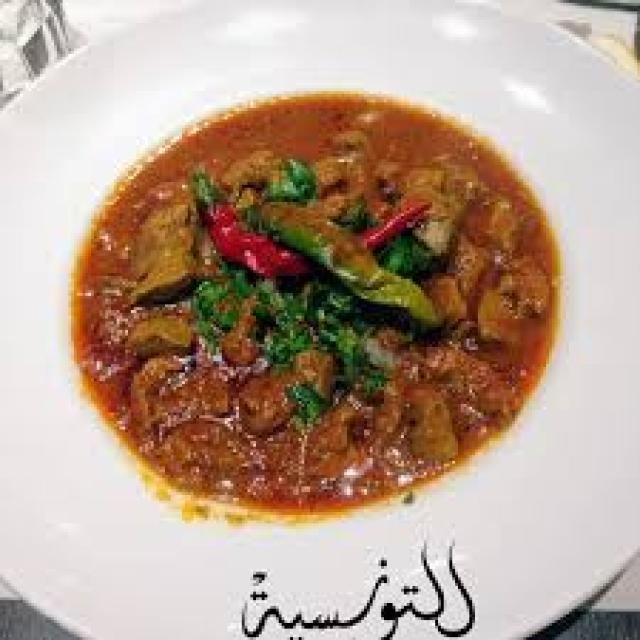Kamouniya: (80, 99, 558, 514)
